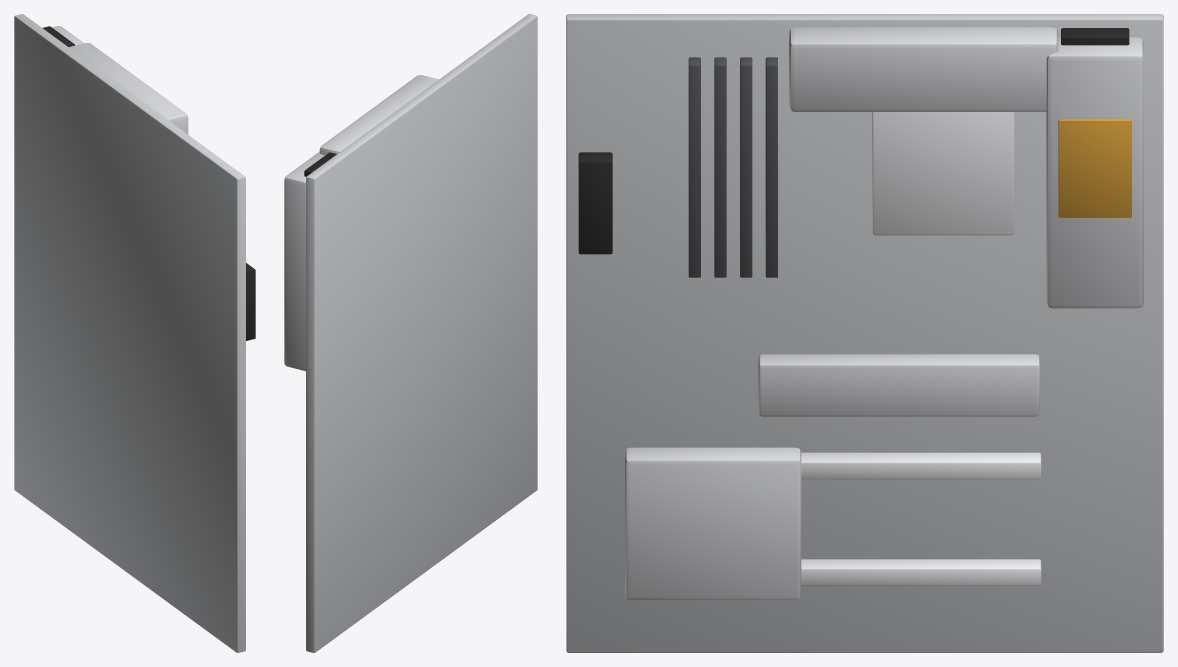
The model's file is motherboard_white.glb.
3 views of the same model, side by side, from view 1: azimuth 30°, elevation 25°; view 2: azimuth 150°, elevation 25°; view 3: azimuth 270°, elevation 25° (orthographic). The views are drawn at different scales.
Parts seen in each view (by area): view 1: MB_White_Body; view 2: MB_White_Body; view 3: MB_White_Body, RGB_MB_White_Badge.
Part boxes in pixels (x1=…): MB_White_Body: x1=14, y1=14, x2=255, y2=652; MB_White_Body: x1=284, y1=14, x2=537, y2=652; MB_White_Body: x1=566, y1=14, x2=1163, y2=652; RGB_MB_White_Badge: x1=1058, y1=118, x2=1131, y2=217.
Bounding box in the file's own units: 0.265 × 2.86 × 2.44.
